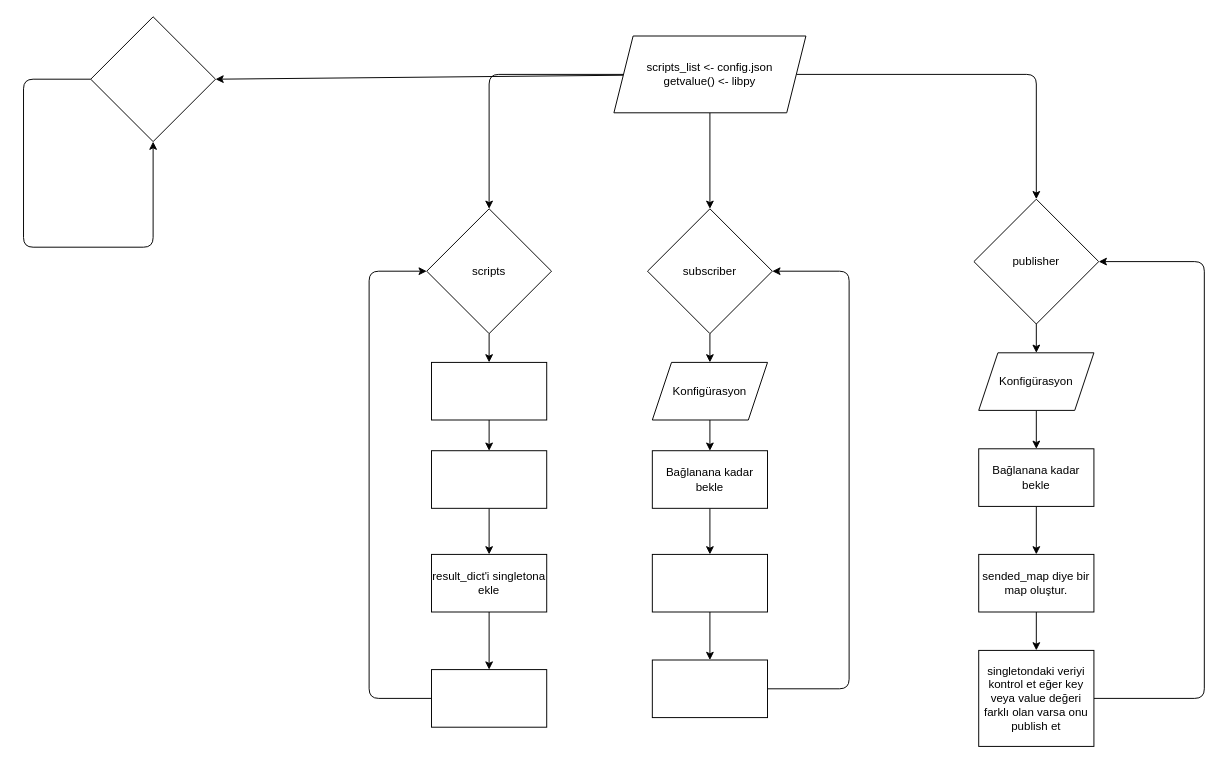
Some shapes in this 1229 by 763 pixel diagram are drawn without their labels. Each missing label, with the centre of its shape:
"Gelen veri ile singletondaki veriyi güncelle" belongs at (709,582).
"main" belongs at (153,79).
"main fonksiyonunu çağır" belongs at (489,390).
"result_dict = get_value()" belongs at (489,479).
"set_value fonksiyonu kullanarak pythondaki sözlüğü güncelle" belongs at (709,688).
"timeout kadar bekle" belongs at (489,698).
